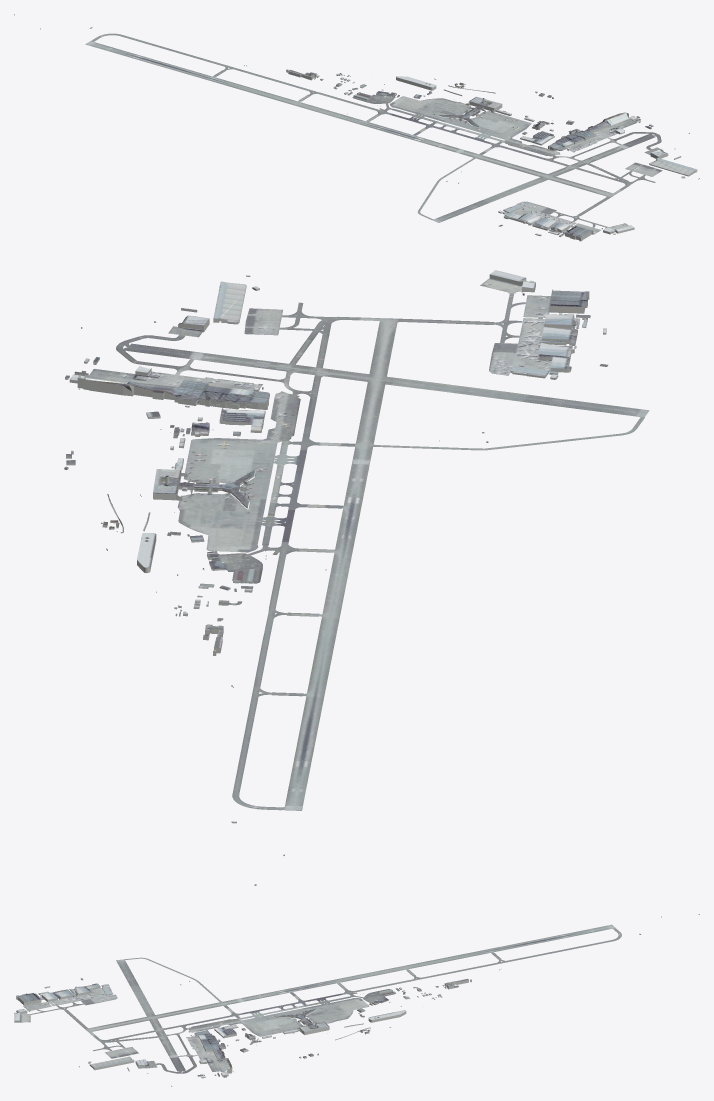
File: LFSB_Airport.glb
3 views of the same model, one above another, from view 1: azimuth 30°, elevation 25°; view 2: azimuth 150°, elevation 25°; view 3: azimuth 270°, elevation 25° (orthographic). The views are drawn at different scales.
Visible parts, largest first — view 1: pavement_LFSB_pavement_5213_2543, pavement_LFSB_pavement_5213_2544, pavement_LFSB_pavement_5214_2542, pavement_LFSB_pavement_5213_2542, pavement_LFSB_pavement_5213_2541, pavement_LFSB_pavement_5212_2544, pavement_LFSB_pavement_5214_2541, building_BATIMENT0000000219452625, pavement_LFSB_pavement_5212_2545, pavement_LFSB_pavement_5212_2541, pavement_LFSB_pavement_5211_2546, pavement_LFSB_pavement_5215_2542 (+3 smaller); view 2: pavement_LFSB_pavement_5213_2543, pavement_LFSB_pavement_5213_2544, pavement_LFSB_pavement_5213_2542, pavement_LFSB_pavement_5214_2542, building_BATIMENT0000000219452625, pavement_LFSB_pavement_5213_2541, pavement_LFSB_pavement_5212_2544, pavement_LFSB_pavement_5214_2541, pavement_LFSB_pavement_5212_2541, pavement_LFSB_pavement_5213_2540, pavement_LFSB_pavement_5212_2545, pavement_LFSB_pavement_5211_2546 (+4 smaller); view 3: pavement_LFSB_pavement_5213_2543, pavement_LFSB_pavement_5213_2544, pavement_LFSB_pavement_5214_2542, pavement_LFSB_pavement_5213_2542, pavement_LFSB_pavement_5213_2541, pavement_LFSB_pavement_5212_2544, pavement_LFSB_pavement_5214_2541, pavement_LFSB_pavement_5212_2545, pavement_LFSB_pavement_5212_2541, pavement_LFSB_pavement_5213_2540, pavement_LFSB_pavement_5211_2546, building_BATIMENT0000000219452625 (+3 smaller).
Part boxes in pixels (x1,y1,x2,y2): pavement_LFSB_pavement_5213_2543: [424, 112, 525, 157]; pavement_LFSB_pavement_5213_2544: [383, 96, 492, 129]; pavement_LFSB_pavement_5214_2542: [544, 126, 634, 170]; pavement_LFSB_pavement_5213_2542: [468, 144, 573, 185]; pavement_LFSB_pavement_5213_2541: [507, 177, 610, 218]; pavement_LFSB_pavement_5212_2544: [324, 99, 422, 135]; pavement_LFSB_pavement_5214_2541: [582, 162, 662, 197]; building_BATIMENT0000000219452625: [548, 112, 628, 150]; pavement_LFSB_pavement_5212_2545: [284, 83, 381, 113]; pavement_LFSB_pavement_5212_2541: [446, 190, 544, 218]; pavement_LFSB_pavement_5211_2546: [175, 61, 257, 92]; pavement_LFSB_pavement_5215_2542: [609, 118, 662, 154]; pavement_LFSB_pavement_5213_2543: [187, 424, 372, 505]; pavement_LFSB_pavement_5213_2544: [178, 475, 312, 560]; pavement_LFSB_pavement_5213_2542: [270, 369, 440, 447]; pavement_LFSB_pavement_5214_2542: [137, 336, 326, 408]; building_BATIMENT0000000219452625: [77, 374, 268, 409]; pavement_LFSB_pavement_5213_2541: [369, 318, 536, 394]; pavement_LFSB_pavement_5212_2544: [239, 506, 359, 587]; pavement_LFSB_pavement_5214_2541: [244, 302, 395, 362]; pavement_LFSB_pavement_5212_2541: [465, 342, 620, 413]; pavement_LFSB_pavement_5213_2540: [450, 278, 550, 341]; pavement_LFSB_pavement_5212_2545: [227, 561, 345, 641]; pavement_LFSB_pavement_5211_2546: [249, 653, 331, 726]; pavement_LFSB_pavement_5213_2543: [223, 998, 297, 1029]; pavement_LFSB_pavement_5213_2544: [298, 998, 372, 1027]; pavement_LFSB_pavement_5214_2542: [148, 1029, 217, 1060]; pavement_LFSB_pavement_5213_2542: [148, 998, 223, 1029]; pavement_LFSB_pavement_5213_2541: [74, 998, 148, 1029]; pavement_LFSB_pavement_5212_2544: [298, 972, 372, 998]; pavement_LFSB_pavement_5214_2541: [85, 1029, 148, 1058]; pavement_LFSB_pavement_5212_2545: [372, 966, 447, 998]; pavement_LFSB_pavement_5212_2541: [74, 966, 145, 997]; pavement_LFSB_pavement_5213_2540: [20, 998, 73, 1022]; pavement_LFSB_pavement_5211_2546: [447, 942, 521, 966]; building_BATIMENT0000000219452625: [201, 1030, 232, 1073].
Size of the model in its own units: 2721 by 60.5 by 4593.
Materials: 3 (2 with a texture image).
